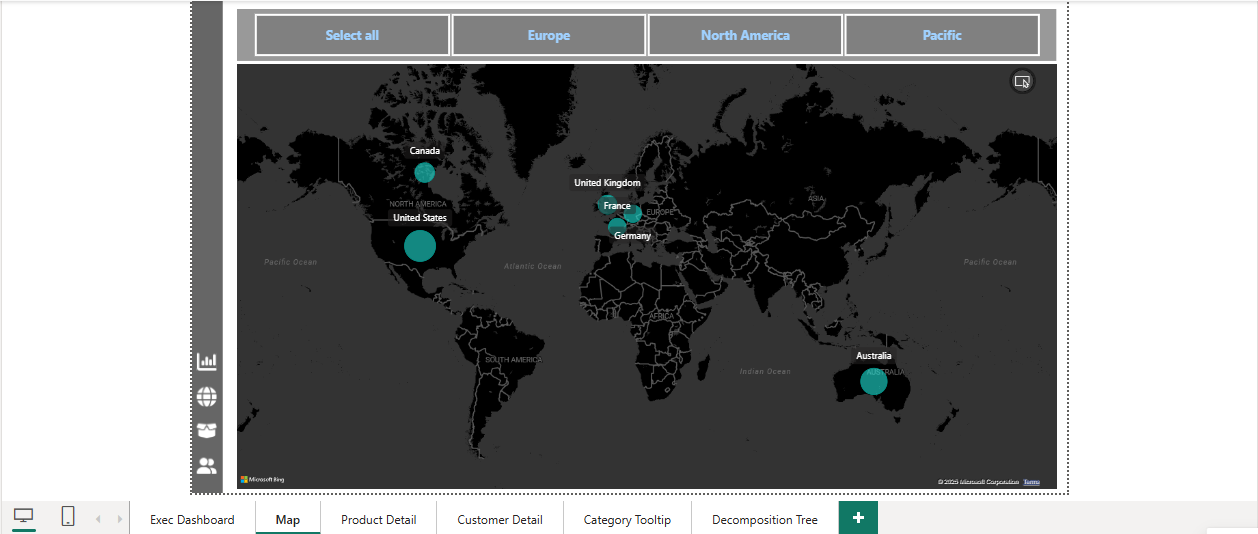

What the dashboard file says about the page in this screenshot:
{"tool":"powerbi","page":{"name":"Map","canvas":[1280,720],"ordinal":1},"visuals":[{"type":"shape","box":[0,0,45,720],"z":0},{"type":"map","fields":{"Size":["Measure Table.Total Orders"],"Category":["Territory Lookup.Country"]},"box":[61.5,87.8,1208.8,632.2],"z":1000},{"type":"actionButton","box":[3.6,509.1,57.9,37.4],"z":1000,"group":"g1"},{"type":"slicer","fields":{"Values":["Territory Lookup.Continent"]},"box":[65.9,11.7,1198.5,76.1],"z":2000},{"type":"actionButton","box":[3.6,610.4,57.9,37.4],"z":2000,"group":"g1"},{"type":"group","id":"g1","title":"Navigation Buttons","box":[3.6,509.1,57.9,189.4],"z":3000},{"type":"actionButton","box":[3.6,661.1,57.9,37.4],"z":3000,"group":"g1"},{"type":"actionButton","box":[3.6,559.8,57.9,37.4],"z":4000,"group":"g1"}]}

Visuals, with their boxes on the page's 1280x720 design canvas (x1, y1, x2, y2). These are canvas units, not pixel positions in the 1258x534 screenshot, which may show the page scaled, cropped or inside an application window:
shape: x1=0 y1=0 x2=45 y2=720
map - Measure Table.Total Orders x Territory Lookup.Country: x1=62 y1=88 x2=1270 y2=720
actionButton: x1=4 y1=509 x2=62 y2=546
slicer - Territory Lookup.Continent: x1=66 y1=12 x2=1264 y2=88
actionButton: x1=4 y1=610 x2=62 y2=648
"Navigation Buttons" group: x1=4 y1=509 x2=62 y2=698
actionButton: x1=4 y1=661 x2=62 y2=698
actionButton: x1=4 y1=560 x2=62 y2=597
